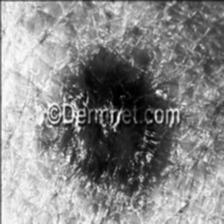Potentially Malignant Skin Tumors: (59, 122, 165, 190), (65, 44, 161, 100)
